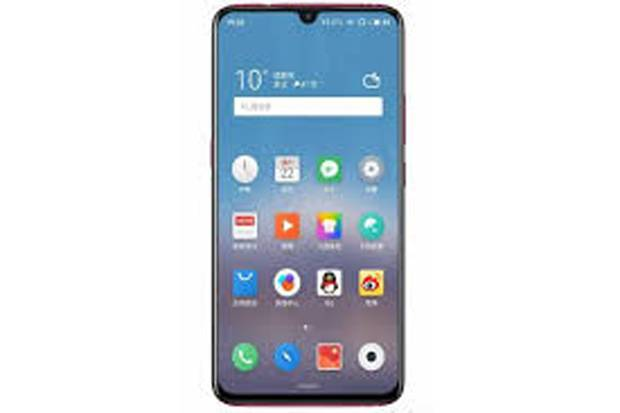Handphone: (203, 1, 409, 410)
